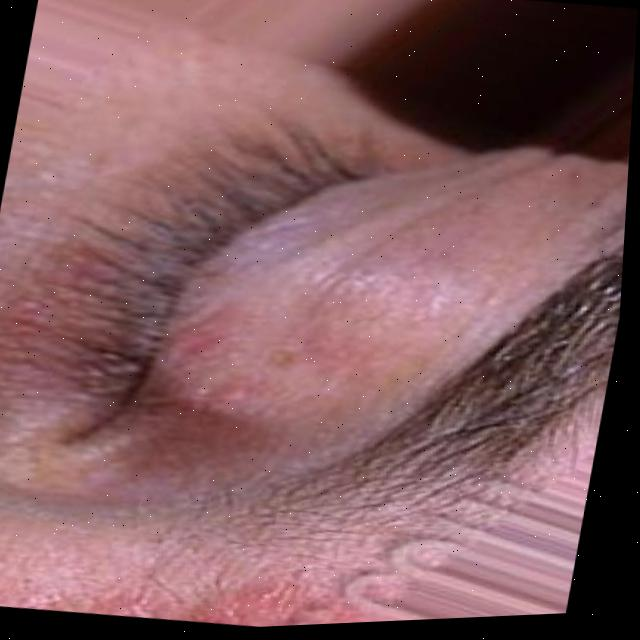Rosacea: (34, 550, 281, 637), (150, 313, 272, 405)
